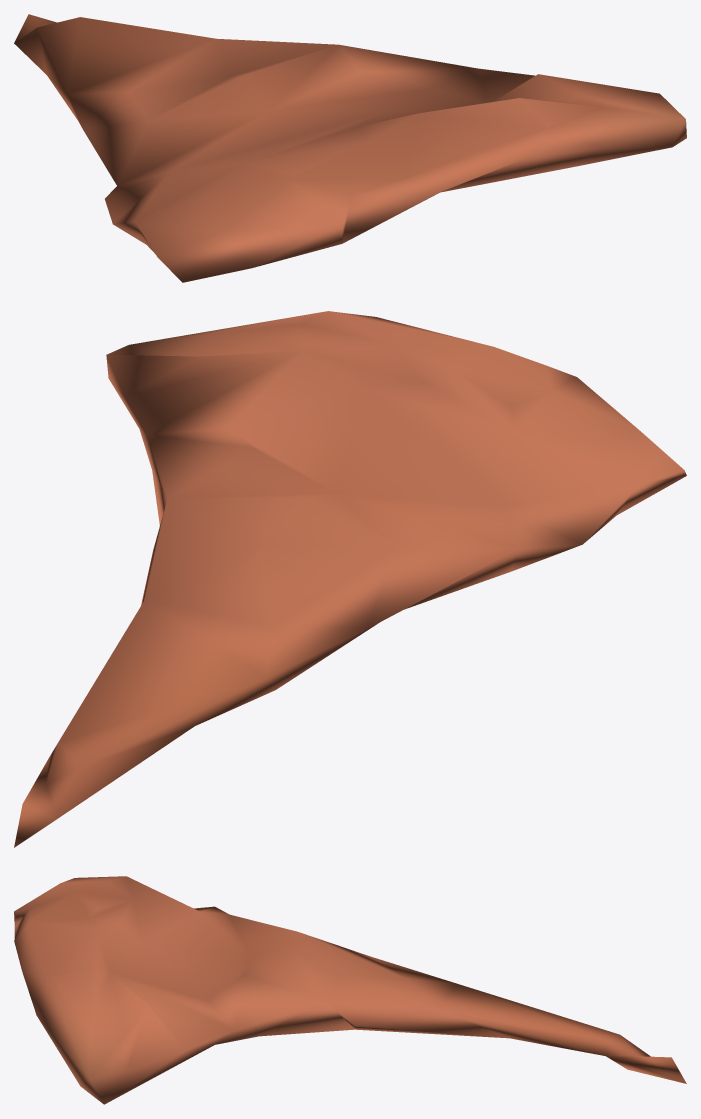
3 renders of one model, top to bottom at view 1: azimuth 30°, elevation 25°; view 2: azimuth 150°, elevation 25°; view 3: azimuth 270°, elevation 25°, orthographic. The views are drawn at different scales.
Visible parts, largest first — view 1: LOD 5_16298169511486423444_820756dedd5b3434c8e6bed8ae6a193b; view 2: LOD 5_16298169511486423444_820756dedd5b3434c8e6bed8ae6a193b; view 3: LOD 5_16298169511486423444_820756dedd5b3434c8e6bed8ae6a193b.
Part boxes in pixels (box(x1,y1,x2,y2)): LOD 5_16298169511486423444_820756dedd5b3434c8e6bed8ae6a193b: box(14, 14, 686, 282); LOD 5_16298169511486423444_820756dedd5b3434c8e6bed8ae6a193b: box(14, 311, 686, 847); LOD 5_16298169511486423444_820756dedd5b3434c8e6bed8ae6a193b: box(14, 876, 686, 1104).
Bounding box in the file's own units: 3.06 × 1.11 × 4.25.
